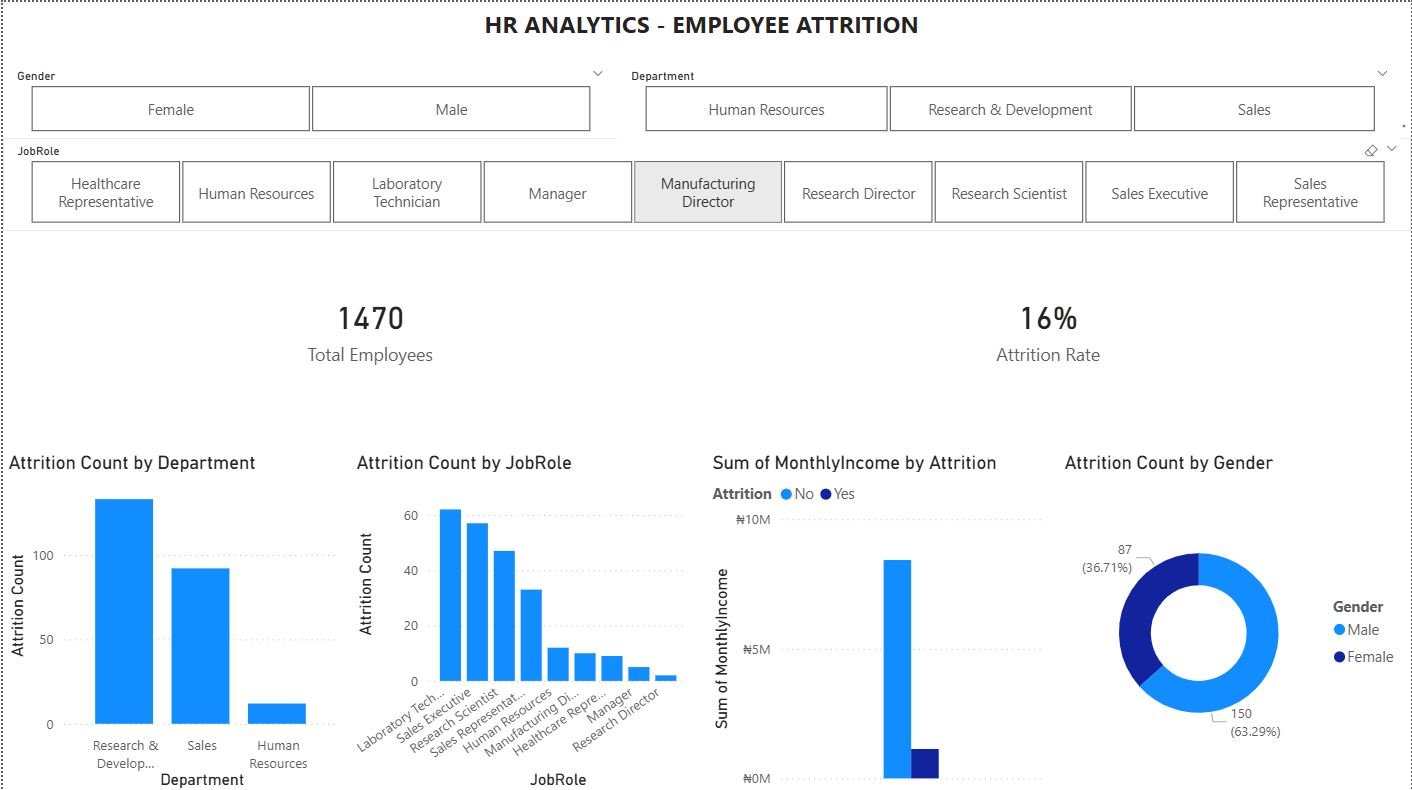

The dashboard page shown, as its layout file describes it:
{"tool":"powerbi","page":{"name":"Page 1","canvas":[1280,720],"ordinal":0},"visuals":[{"type":"card","fields":{"Values":["HR-Employee-Attrition.Total Employees"]},"box":[27,232,613,128],"z":0},{"type":"clusteredColumnChart","fields":{"Y":["HR-Employee-Attrition.Attrition Count"],"Category":["HR-Employee-Attrition.Department"]},"box":[0,408,311,312],"z":1000},{"type":"slicer","fields":{"Values":["HR-Employee-Attrition.Gender"]},"box":[0,55,558.3,69.2],"z":2000},{"type":"slicer","fields":{"Values":["HR-Employee-Attrition.JobRole"]},"box":[0,124,1280,84],"z":3000},{"type":"slicer","fields":{"Values":["HR-Employee-Attrition.Department"]},"box":[558.3,55,713.3,69.2],"z":4000},{"type":"textbox","box":[433,0,413,41],"z":5000},{"type":"clusteredColumnChart","fields":{"Y":["HR-Employee-Attrition.Attrition Count"],"Category":["HR-Employee-Attrition.JobRole"]},"box":[316,408,311,312],"z":6000},{"type":"clusteredColumnChart","fields":{"Y":["Sum(HR-Employee-Attrition.MonthlyIncome)"],"Series":["HR-Employee-Attrition.Attrition"]},"box":[640,408,311,312],"z":7000},{"type":"donutChart","fields":{"Category":["HR-Employee-Attrition.Gender"],"Y":["HR-Employee-Attrition.Attrition Count"]},"box":[960,408,320,312],"z":8000},{"type":"card","fields":{"Values":["HR-Employee-Attrition.Attrition Rate"]},"box":[644,232,613,128],"z":9000}]}

Visuals, with their boxes in screenshot pixels (x1, y1, x2, y2), scaled from the page's 1280x720 canvas onto the 1412x790 screenshot:
card - HR-Employee-Attrition.Total Employees: (left=30, top=255, right=706, bottom=395)
clusteredColumnChart - HR-Employee-Attrition.Attrition Count x HR-Employee-Attrition.Department: (left=0, top=448, right=343, bottom=789)
slicer - HR-Employee-Attrition.Gender: (left=0, top=60, right=616, bottom=136)
slicer - HR-Employee-Attrition.JobRole: (left=0, top=136, right=1411, bottom=228)
slicer - HR-Employee-Attrition.Department: (left=616, top=60, right=1403, bottom=136)
textbox: (left=478, top=0, right=933, bottom=45)
clusteredColumnChart - HR-Employee-Attrition.Attrition Count x HR-Employee-Attrition.JobRole: (left=349, top=448, right=692, bottom=789)
clusteredColumnChart - Sum(HR-Employee-Attrition.MonthlyIncome) x HR-Employee-Attrition.Attrition: (left=706, top=448, right=1049, bottom=789)
donutChart - HR-Employee-Attrition.Gender x HR-Employee-Attrition.Attrition Count: (left=1059, top=448, right=1411, bottom=789)
card - HR-Employee-Attrition.Attrition Rate: (left=710, top=255, right=1387, bottom=395)
